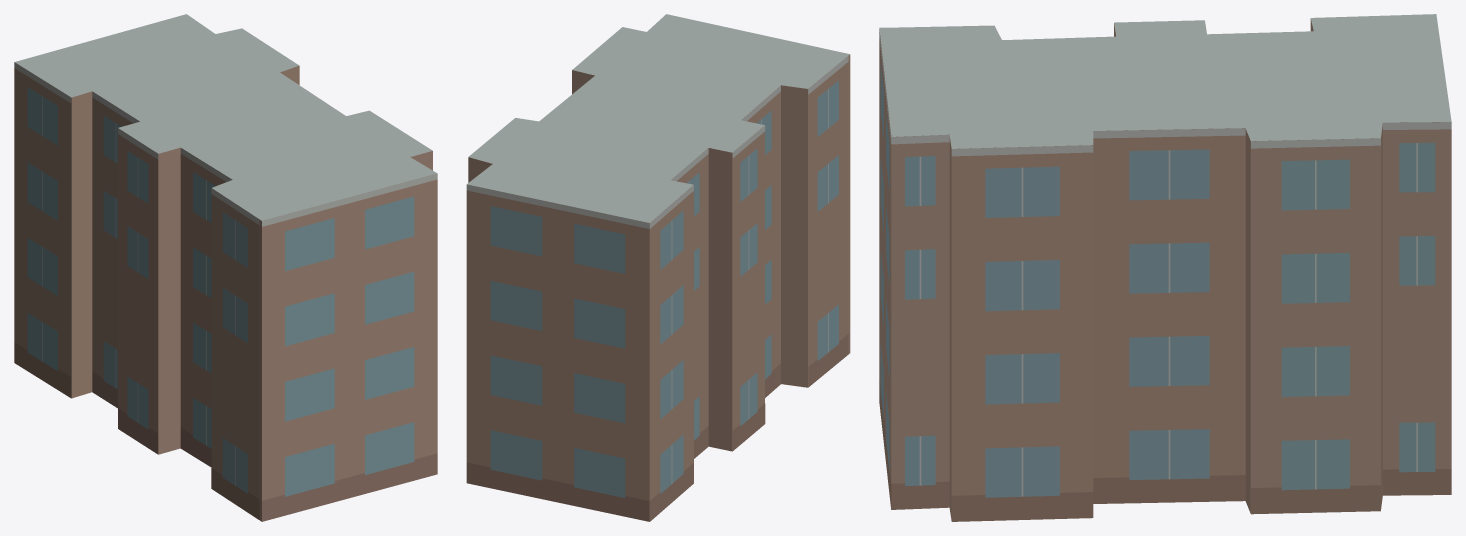
Rendered from survey-upis-32730899.glb.
The picture shows the model from 3 angles, left to right: view 1: azimuth 30°, elevation 25°; view 2: azimuth 150°, elevation 25°; view 3: azimuth 270°, elevation 25°; orthographic projection. The views are drawn at different scales.
Parts seen in each view (by area): view 1: survey-upis-32730899.tmp; view 2: survey-upis-32730899.tmp; view 3: survey-upis-32730899.tmp.
Part boxes in pixels (left/top/right/bottom): survey-upis-32730899.tmp: left=14, top=14, right=437, bottom=521; survey-upis-32730899.tmp: left=466, top=14, right=850, bottom=521; survey-upis-32730899.tmp: left=879, top=14, right=1451, bottom=521.
Size of the model in its own units: 9.48 by 12.2 by 16.98.
